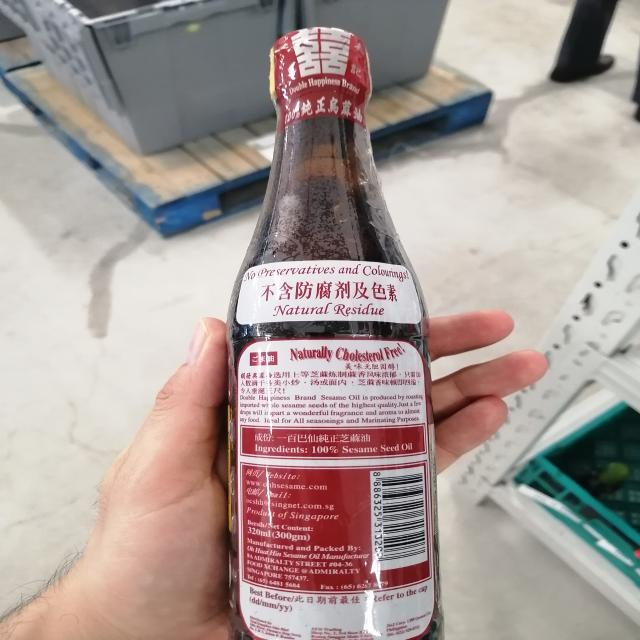object_name: (228, 33, 443, 640)
